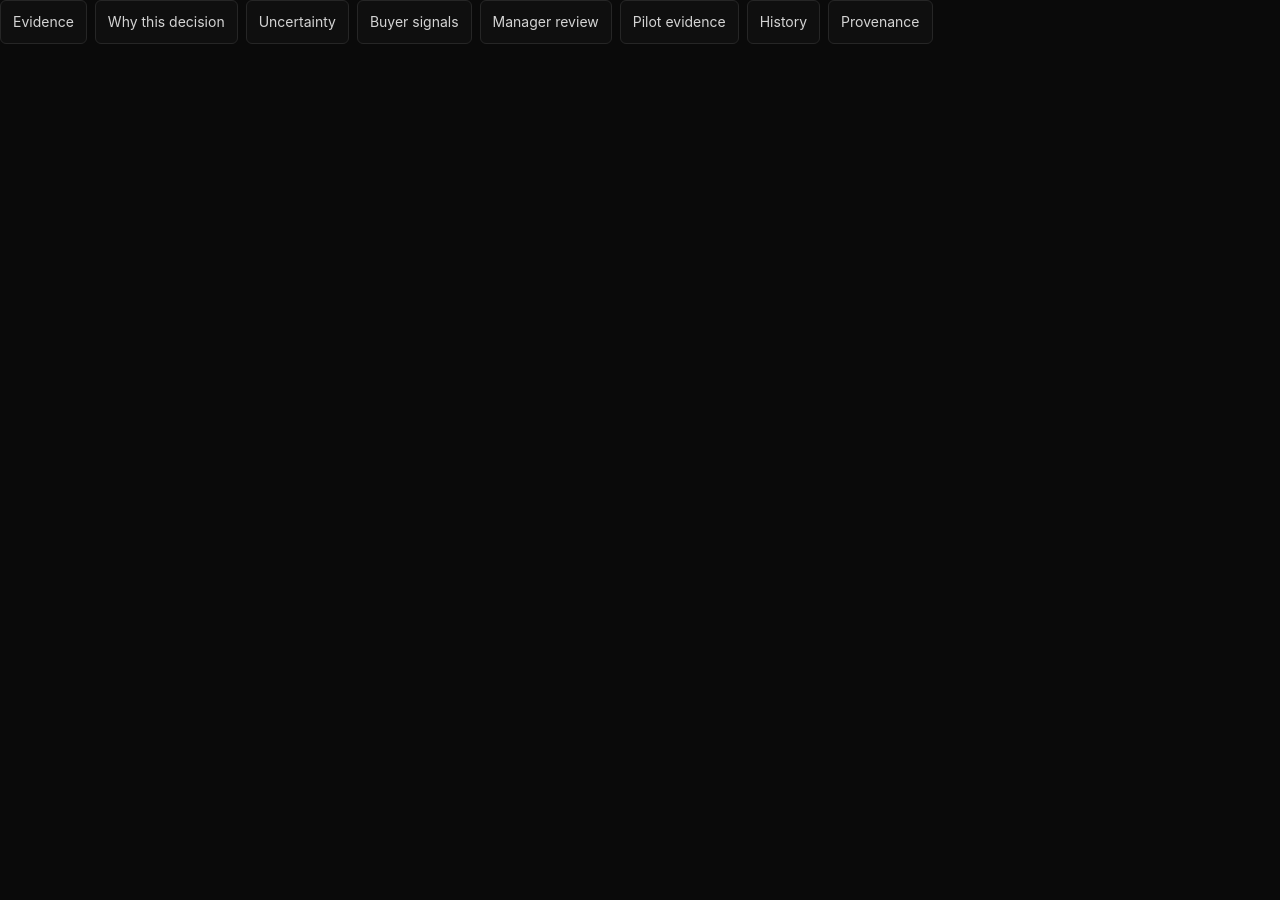
Test case: InspectionRail › closes the drawer on Escape
Click the button "Evidence".
click(43, 22)  # box [0,0,87,44]
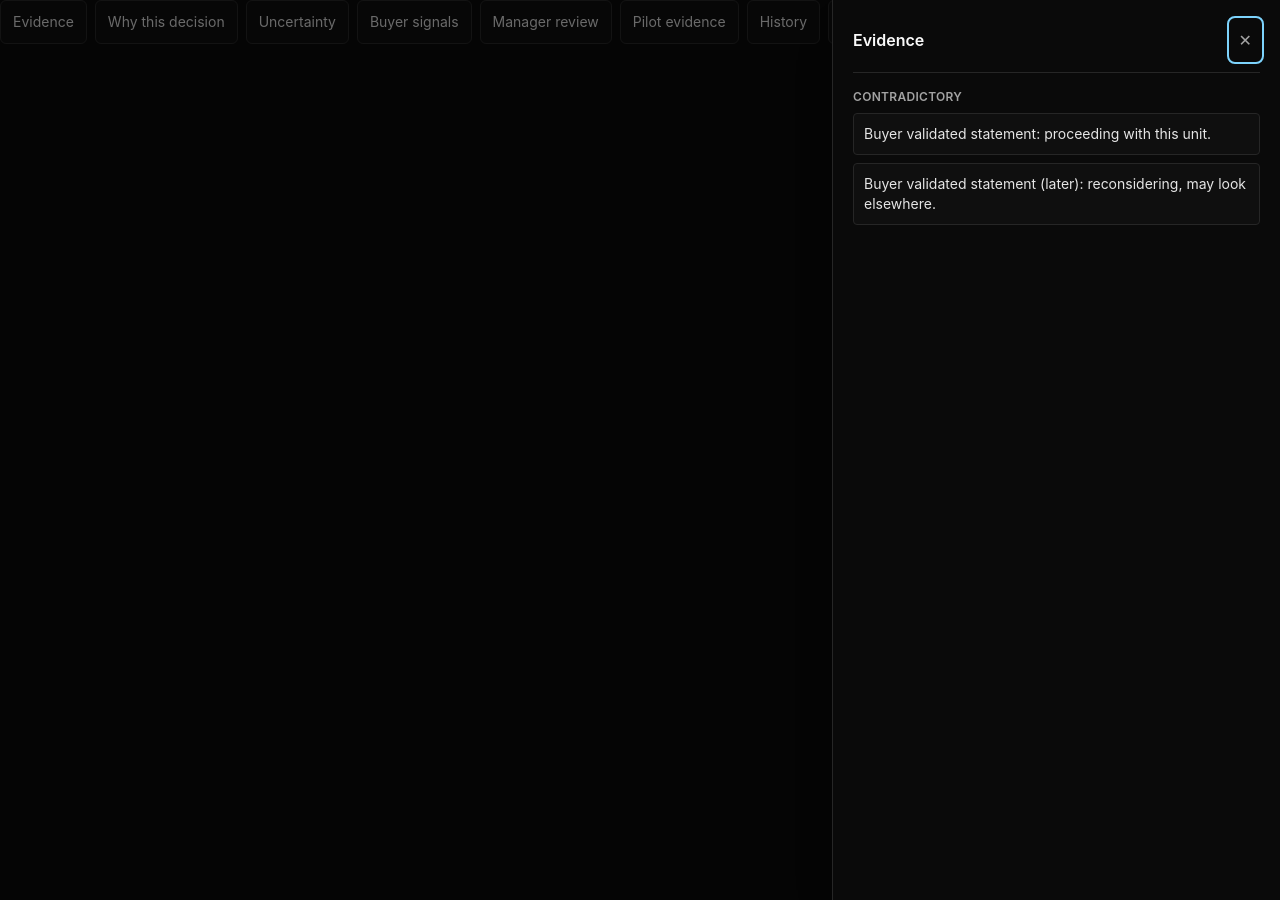
Now the dialog is shown, box [832,0,1279,899]
Press Escape
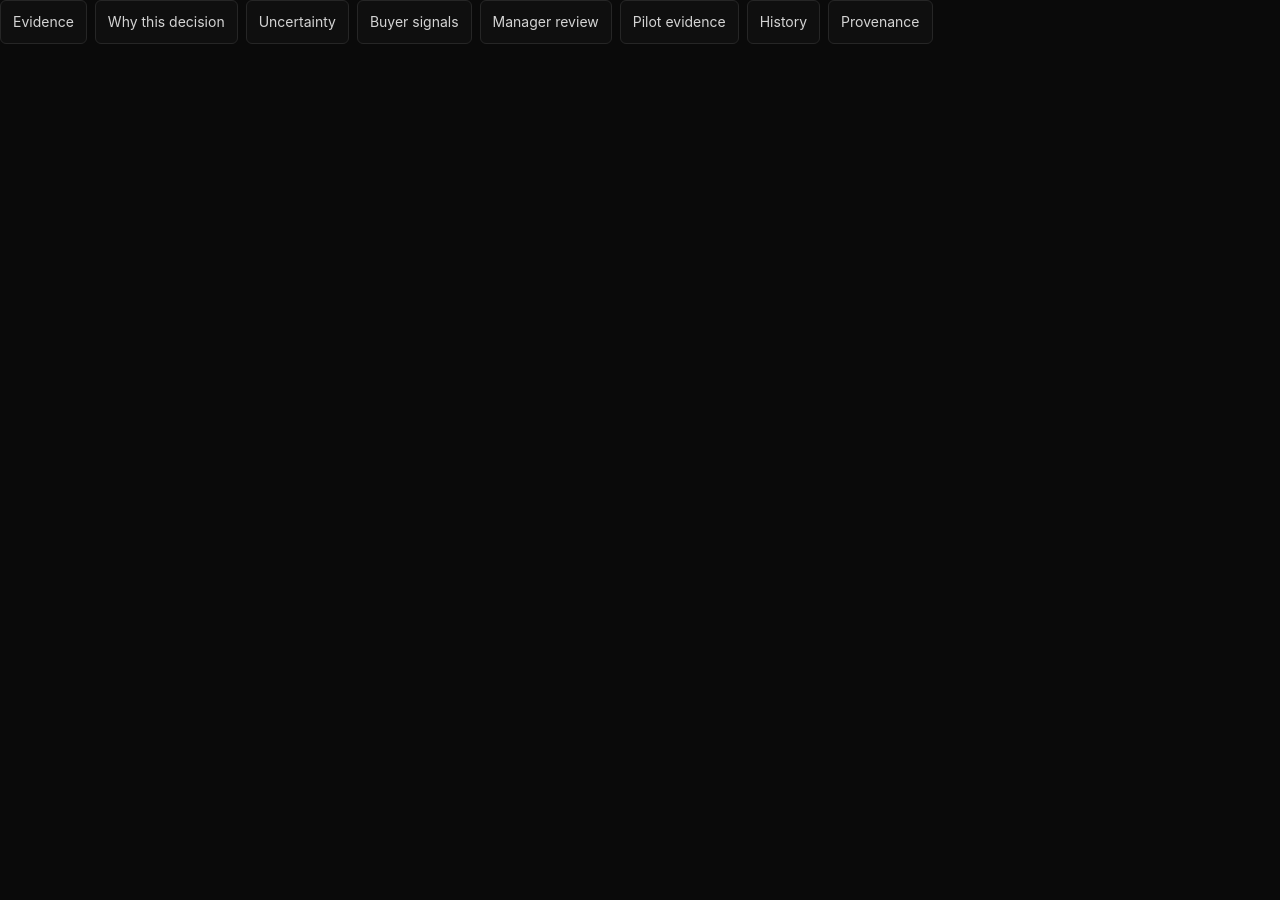
Now the dialog is gone
